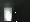person: (5, 5, 13, 21)
